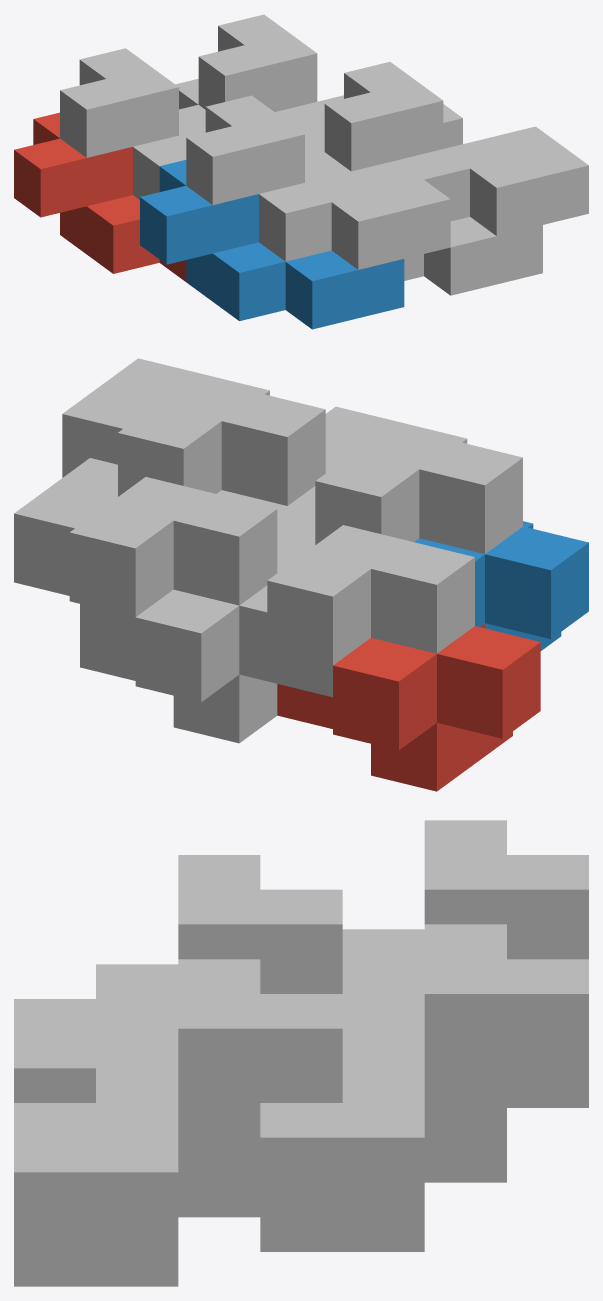
The model's file is tiling.obj.
3 views of the same model, one above another, from view 1: azimuth 30°, elevation 25°; view 2: azimuth 150°, elevation 25°; view 3: azimuth 270°, elevation 25° (orthographic). The views are drawn at different scales.
Parts seen in each view (by area): view 1: copy_1_domain_4, copy_1_domain_8, copy_1_domain_2, copy_1_domain_1, copy_1_domain_3, copy_1_domain_7, copy_1_domain_6, copy_1_domain_5; view 2: copy_1_domain_7, copy_1_domain_8, copy_1_domain_1, copy_1_domain_3, copy_1_domain_4, copy_1_domain_5, copy_1_domain_2, copy_1_domain_6; view 3: copy_1_domain_8, copy_1_domain_7, copy_1_domain_4, copy_1_domain_3, copy_1_domain_5, copy_1_domain_6.
Boxes of the visible parts, left/top/right/bottom form: copy_1_domain_4: left=186, top=95, right=450, bottom=269; copy_1_domain_8: left=324, top=62, right=588, bottom=235; copy_1_domain_2: left=140, top=160, right=404, bottom=329; copy_1_domain_1: left=14, top=112, right=186, bottom=281; copy_1_domain_3: left=60, top=48, right=323, bottom=199; copy_1_domain_7: left=198, top=14, right=462, bottom=148; copy_1_domain_6: left=301, top=126, right=542, bottom=295; copy_1_domain_5: left=175, top=79, right=205, bottom=135; copy_1_domain_7: left=14, top=458, right=277, bottom=648; copy_1_domain_8: left=62, top=358, right=325, bottom=505; copy_1_domain_1: left=277, top=623, right=540, bottom=791; copy_1_domain_3: left=267, top=506, right=474, bottom=697; copy_1_domain_4: left=315, top=406, right=522, bottom=553; copy_1_domain_5: left=80, top=585, right=305, bottom=743; copy_1_domain_2: left=414, top=521, right=588, bottom=650; copy_1_domain_6: left=217, top=486, right=315, bottom=513; copy_1_domain_8: left=14, top=959, right=342, bottom=1246; copy_1_domain_7: left=260, top=924, right=588, bottom=1212; copy_1_domain_4: left=14, top=855, right=342, bottom=1102; copy_1_domain_3: left=342, top=820, right=588, bottom=1033; copy_1_domain_5: left=260, top=1068, right=588, bottom=1251; copy_1_domain_6: left=14, top=1177, right=260, bottom=1286.
Size of the model in its own units: 9 by 3 by 7.
